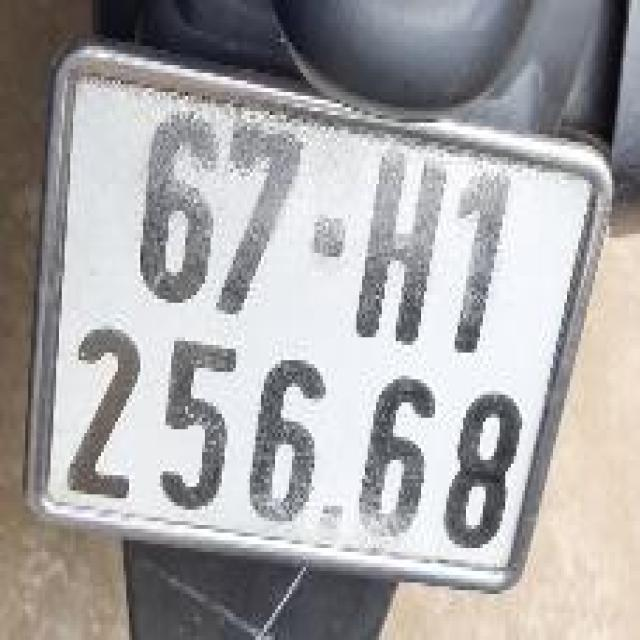1: (452, 152, 514, 354)
2: (63, 310, 142, 502)
5: (156, 328, 240, 519)
6: (136, 100, 218, 310), (248, 335, 327, 527), (356, 370, 438, 546)
7: (218, 113, 304, 316)
8: (444, 374, 522, 554)
H: (356, 126, 446, 352)
